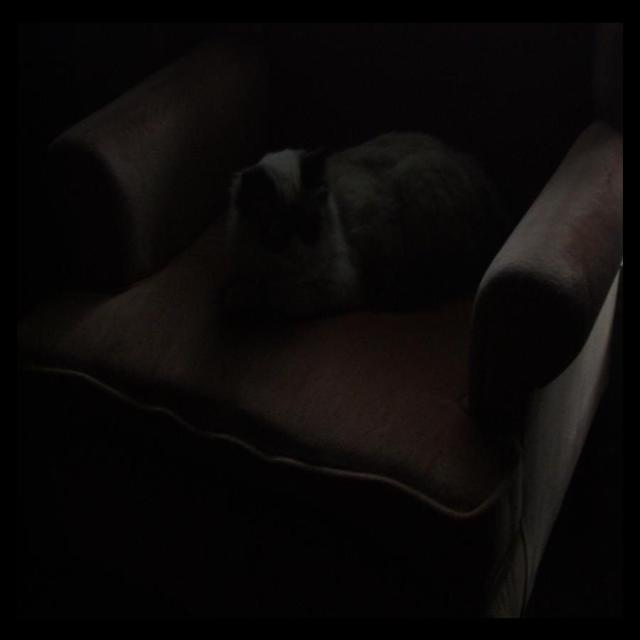Cat: (214, 140, 520, 318)
chair: (23, 24, 634, 626)
